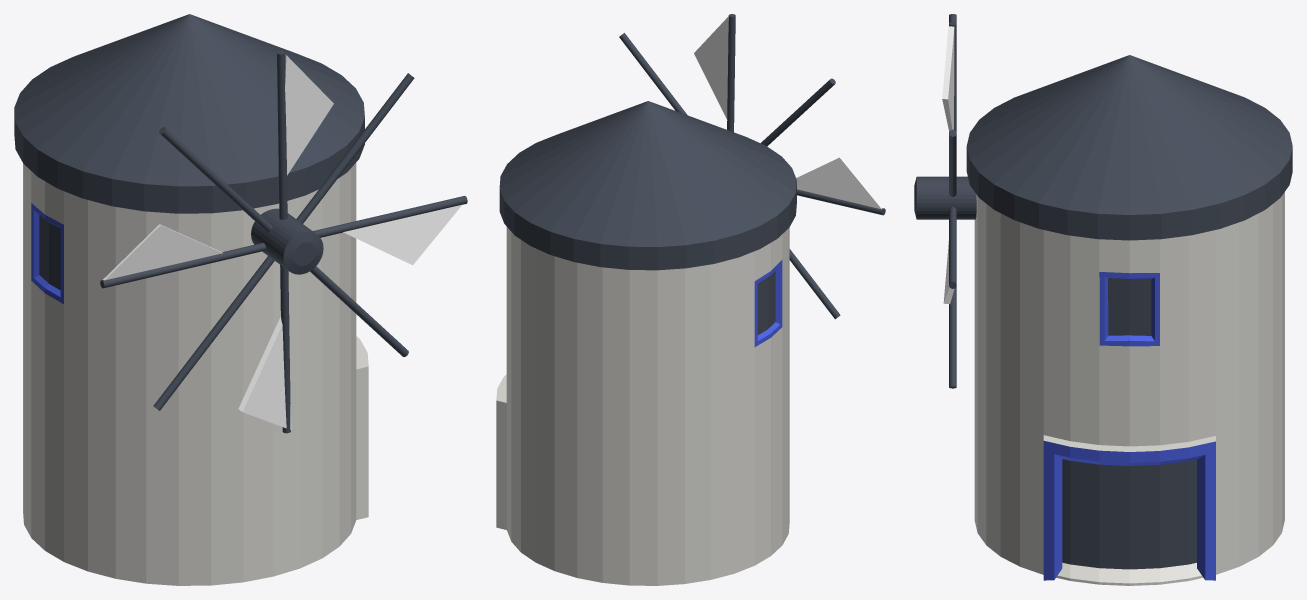
The model's file is mill.obj.
3 views of the same model, side by side, from view 1: azimuth 30°, elevation 25°; view 2: azimuth 150°, elevation 25°; view 3: azimuth 270°, elevation 25° (orthographic). The views are drawn at different scales.
Parts seen in each view (by area): view 1: mill; view 2: mill; view 3: mill.
Part boxes in pixels (box(x1,y1,x2,y2)): mill: box(14, 14, 467, 585); mill: box(496, 14, 885, 585); mill: box(914, 14, 1292, 585).
Size of the model in its own units: 2.51 by 3.52 by 2.44.
